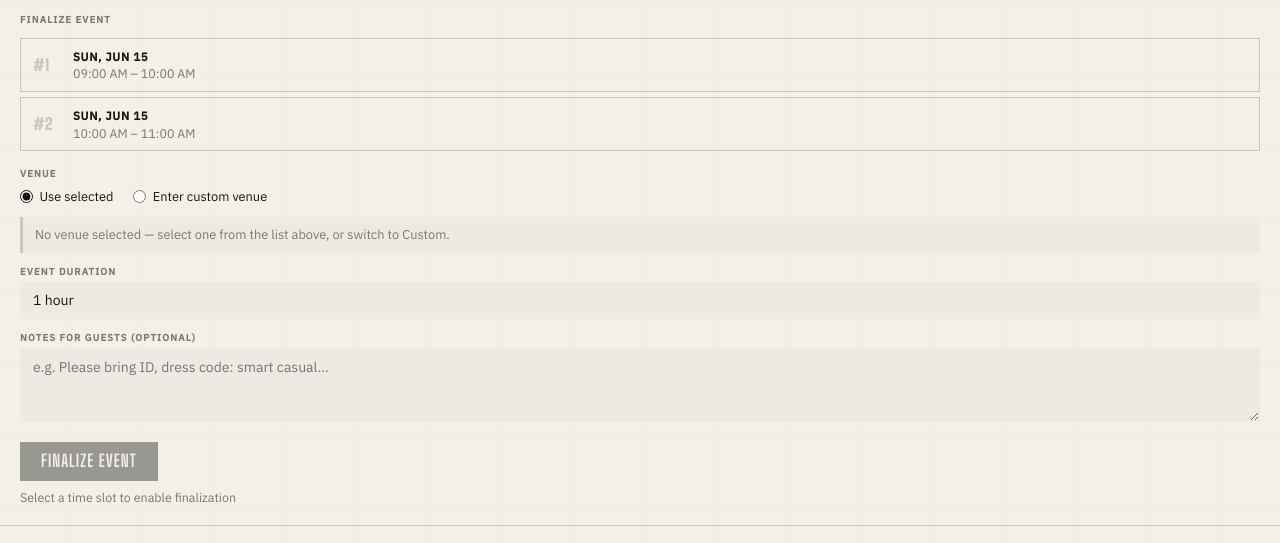
FinalizePanel › finalize button is enabled after slot is selected
Click the button with test id "slot-card-slot-1" at point(111, 56), box [20,38,1260,92]
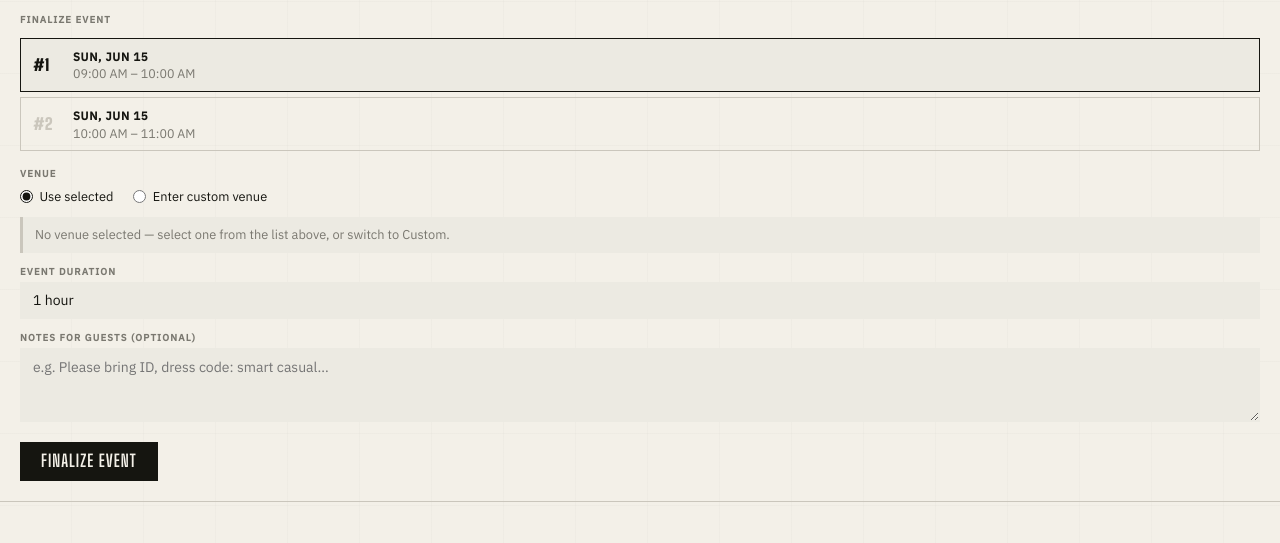
Result: the button "Finalize Event" is enabled at [20,442,158,481]
